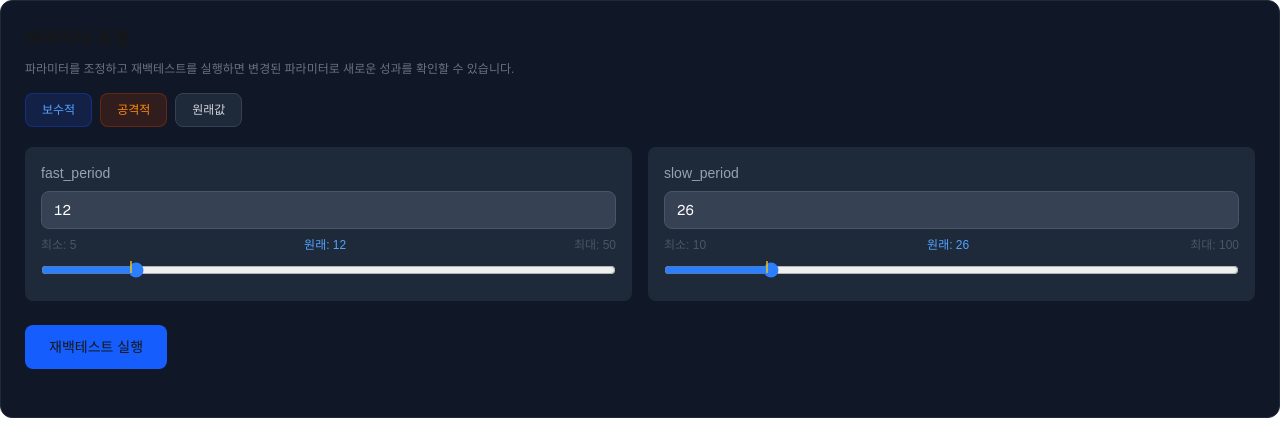
it: ParamAdjustTab › applies aggressive preset (25% toward max)
The image size is (1280, 435).
Click the button "공격적": x=134, y=110 [100, 93, 167, 127]
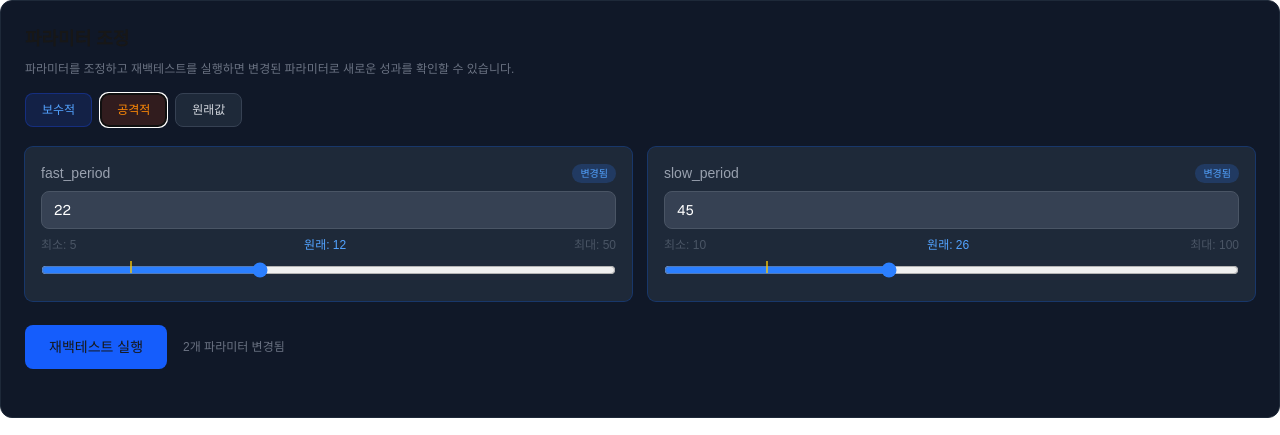
Expected: the number field below "fast_period" holds "22", [41, 191, 616, 229]
Expected: the number field below "slow_period" holds "45", [664, 191, 1239, 229]
